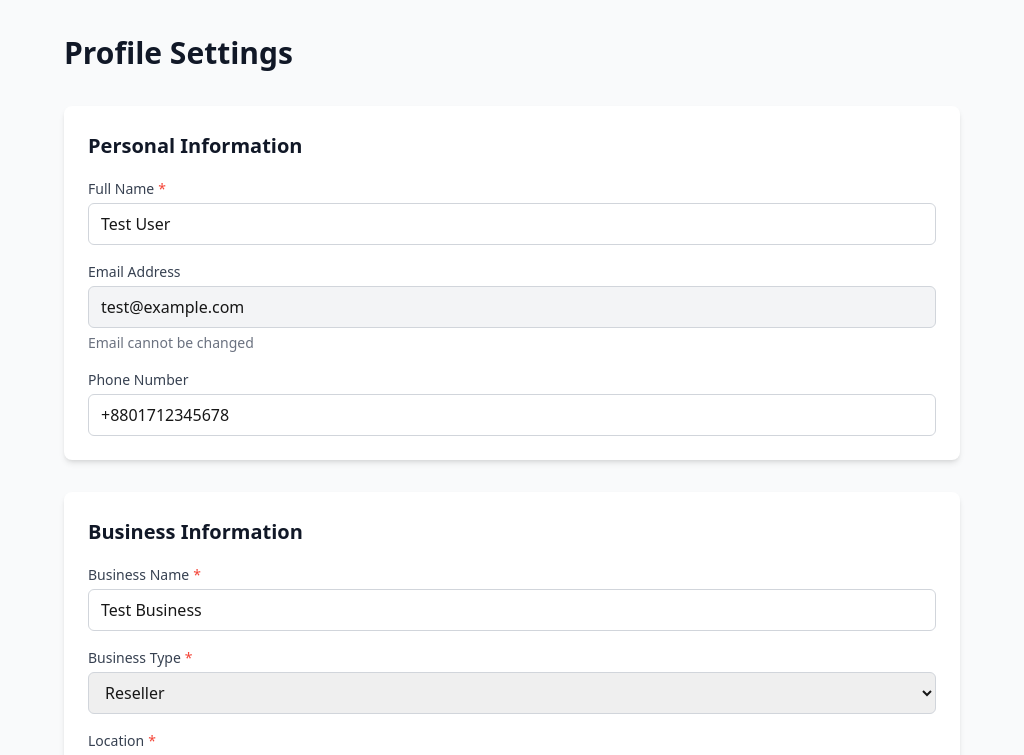
Test: ProfileSettingsPage › Requirement 11.4: Allow users to update profile information › should display success message after successful update
This screenshot has width=1024, height=755.
Replace the text in the field showing "Test User" with "Updated Name" at (512, 224), box [88,203,936,245]
(page scrolled)
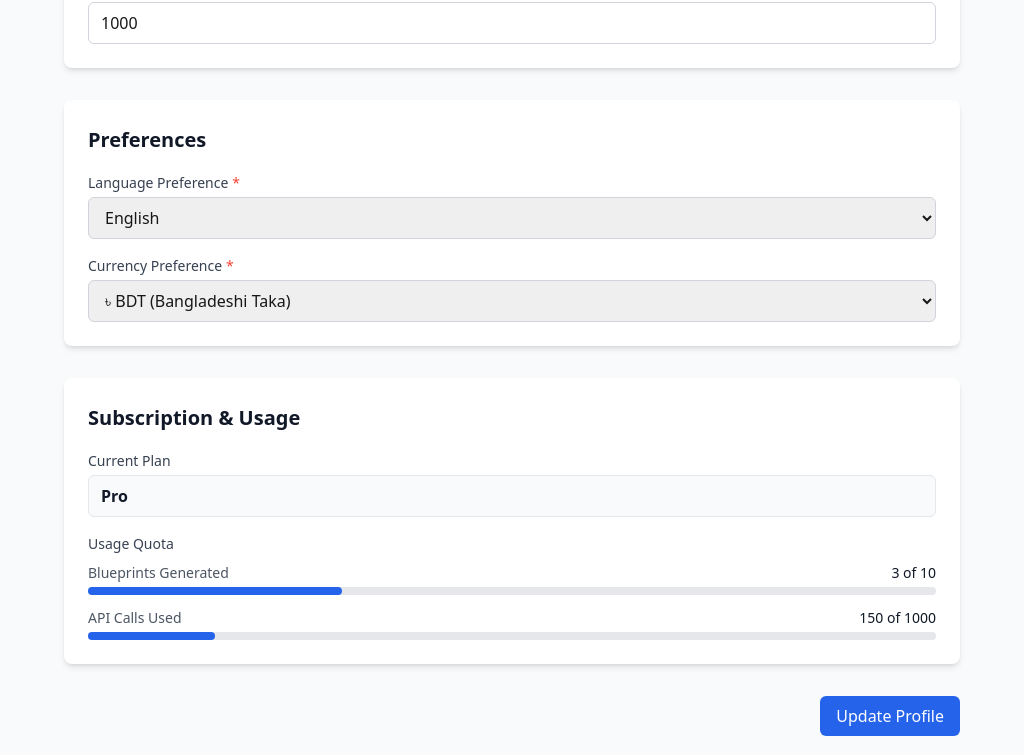
Click the button "Update Profile" at (890, 716), box [820,696,960,736]
(page scrolled)
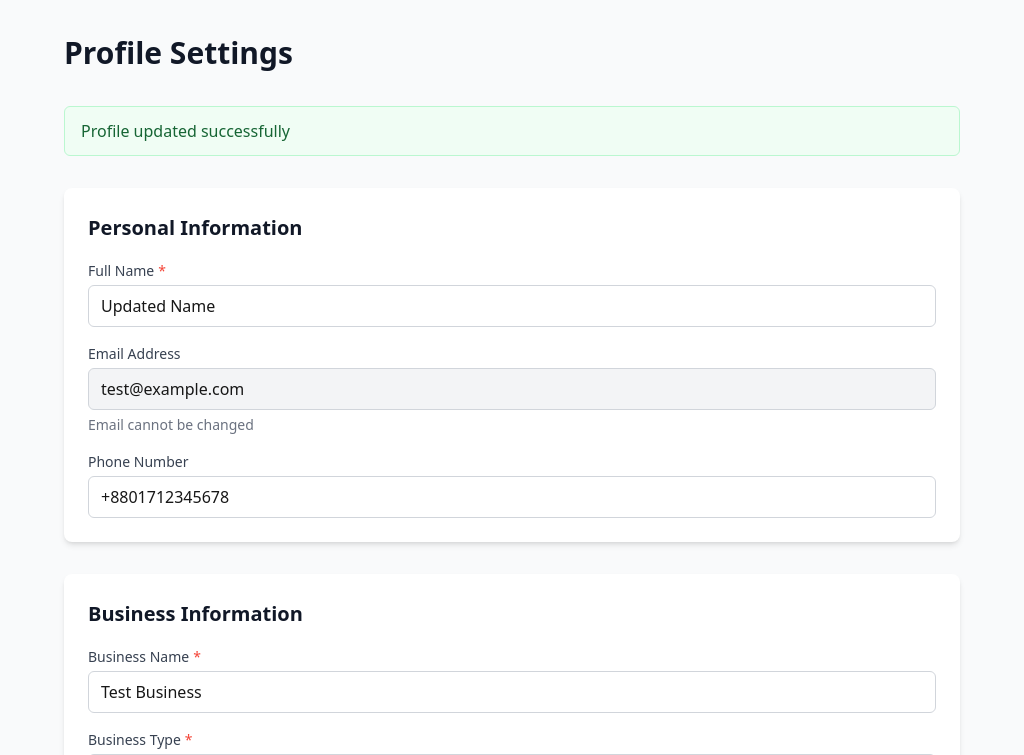
Now the text "Profile updated successfully" is shown, box [64,106,960,156]
